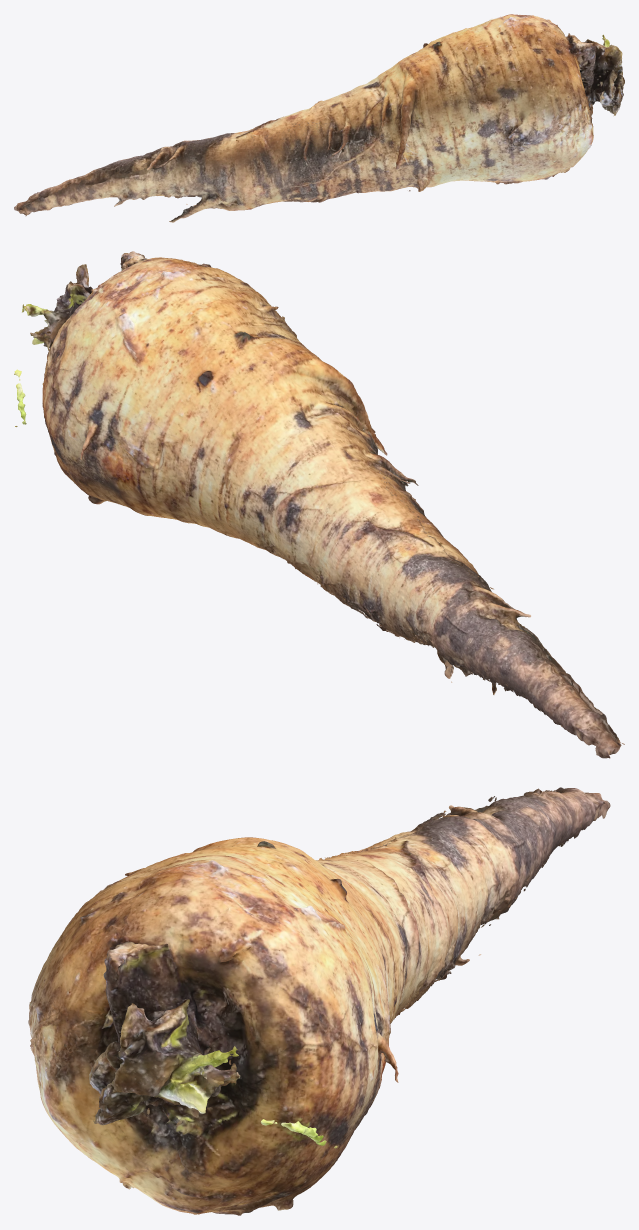
File: sf-parsnip-9270b2.glb
3 views of the same model, one above another, from view 1: azimuth 30°, elevation 25°; view 2: azimuth 150°, elevation 25°; view 3: azimuth 270°, elevation 25° (orthographic). The views are drawn at different scales.
Visible parts, largest first — view 1: Object_2; view 2: Object_2; view 3: Object_2.
Boxes of the visible parts, x1=… form: Object_2: x1=14, y1=14, x2=624, y2=222; Object_2: x1=14, y1=251, x2=624, y2=758; Object_2: x1=28, y1=787, x2=610, y2=1215.
Size of the model in its own units: 5.48 by 1.87 by 2.76.
Materials: 1 (1 with a texture image).
